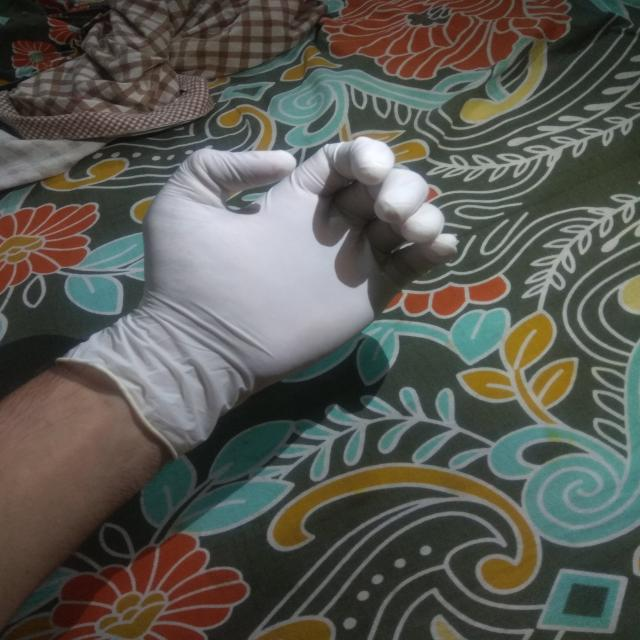Gloves: (56, 136, 462, 464)
